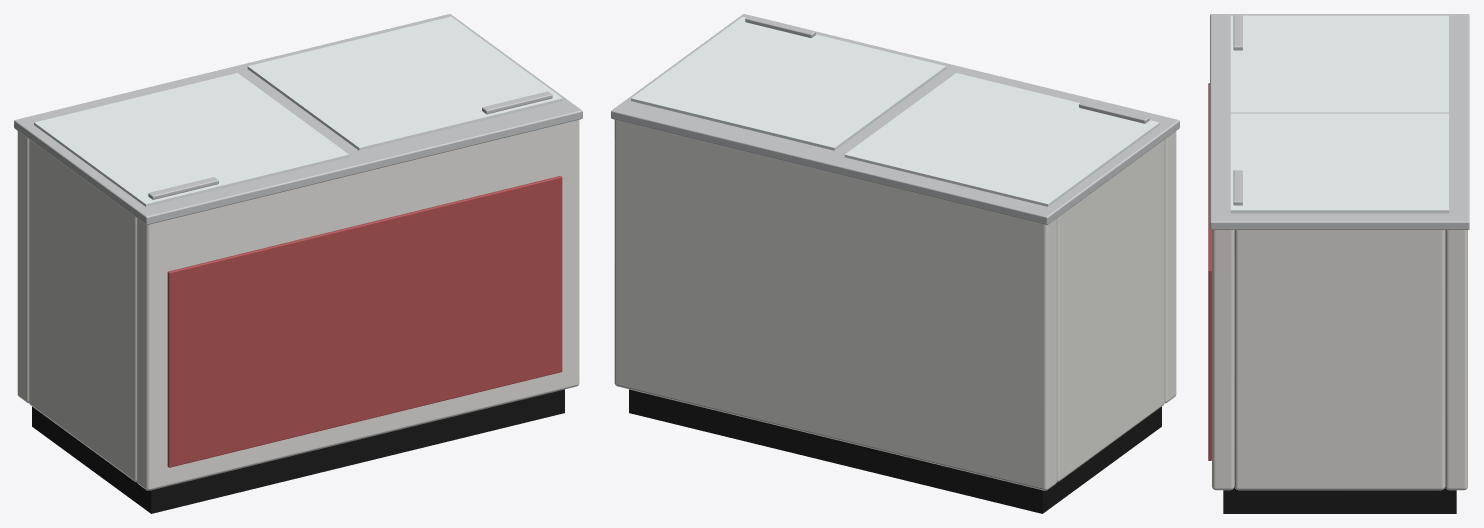
File: arcon_congelador.glb
3 views of the same model, side by side, from view 1: azimuth 30°, elevation 25°; view 2: azimuth 150°, elevation 25°; view 3: azimuth 270°, elevation 25° (orthographic). The views are drawn at different scales.
Visible parts, largest first — view 1: panel_marca, fondo, tapa_0, marco, zocalo; view 2: fondo, tapa_0, marco, zocalo; view 3: fondo, tapa_0, marco, zocalo, panel_marca.
Boxes of the visible parts, <box> form: panel_marca: <box>167,176,562,467</box>; fondo: <box>17,120,579,490</box>; tapa_0: <box>34,16,562,206</box>; marco: <box>14,14,582,224</box>; zocalo: <box>32,389,564,513</box>; fondo: <box>614,120,1176,490</box>; tapa_0: <box>631,16,1159,206</box>; marco: <box>611,14,1179,224</box>; zocalo: <box>629,389,1161,513</box>; fondo: <box>1212,230,1467,490</box>; tapa_0: <box>1230,15,1448,213</box>; marco: <box>1210,14,1469,229</box>; zocalo: <box>1223,487,1456,513</box>; panel_marca: <box>1208,83,1211,460</box>.
Size of the model in its own units: 1.31 by 0.906 by 0.695.
